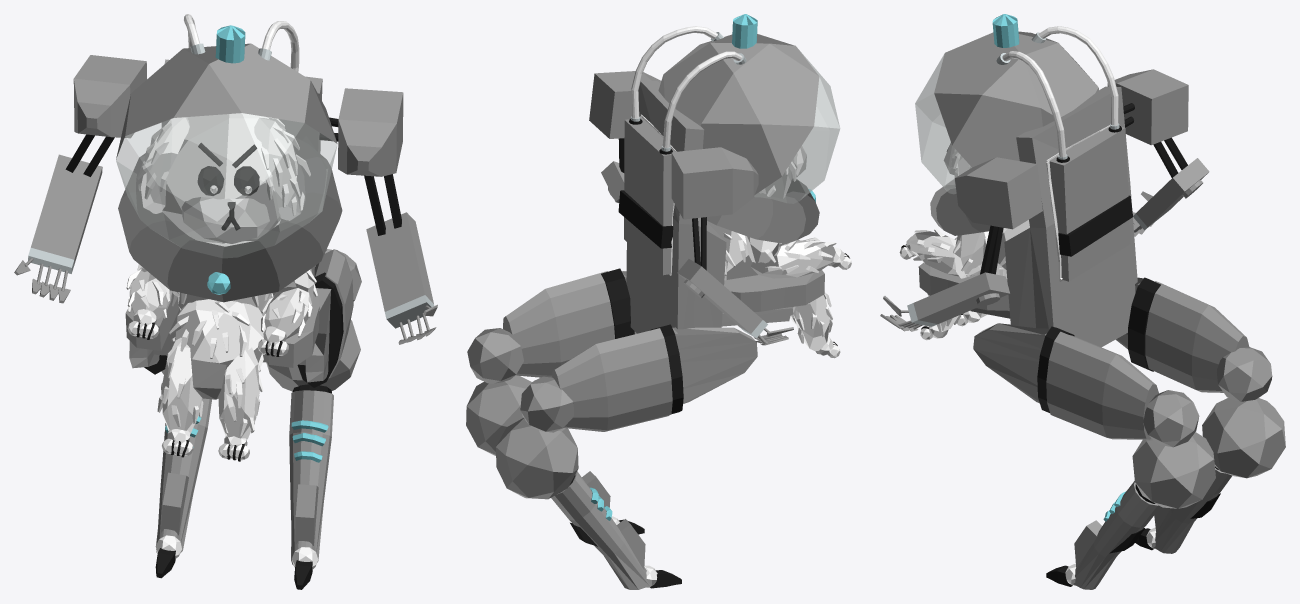
The model's file is Snowball.glb.
3 views of the same model, side by side, from view 1: azimuth 30°, elevation 25°; view 2: azimuth 150°, elevation 25°; view 3: azimuth 270°, elevation 25° (orthographic). The views are drawn at different scales.
Visible parts, largest first — view 1: Node; view 2: Node; view 3: Node.
Part boxes in pixels (<box>): Node: <box>14,14,437,589</box>; Node: <box>466,14,851,589</box>; Node: <box>880,14,1285,589</box>.
Bounding box in the file's own units: 3.1 × 5 × 3.51.
